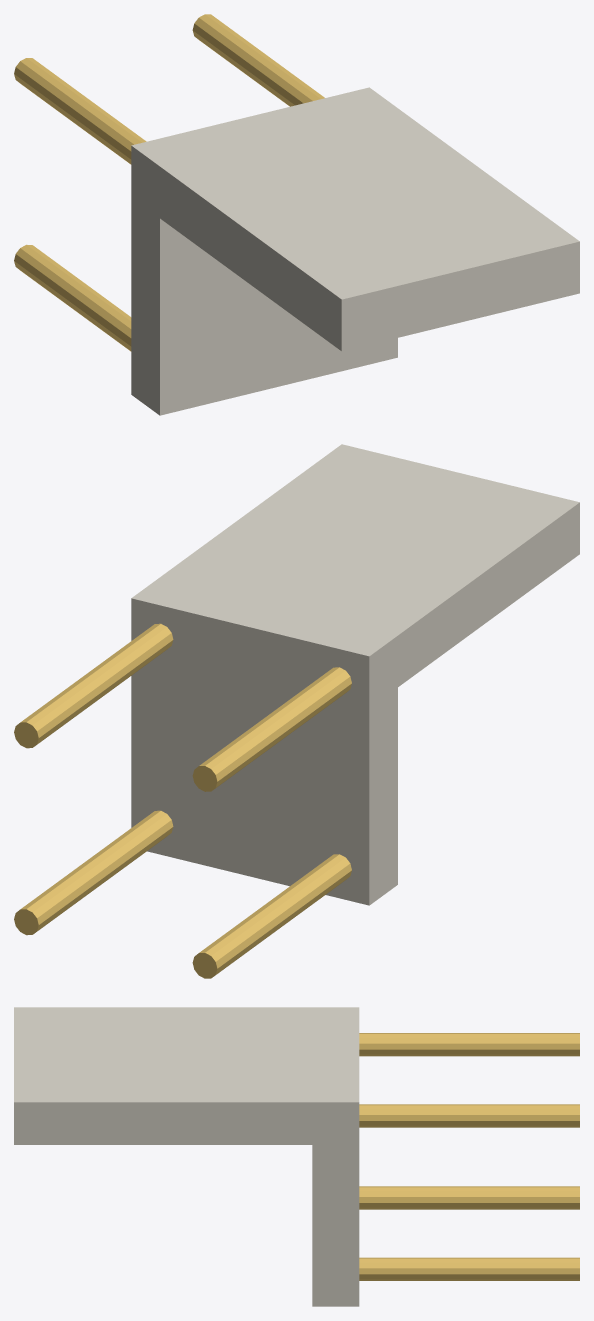
File: banquet_chair.glb
3 renders of one model, top to bottom at view 1: azimuth 30°, elevation 25°; view 2: azimuth 150°, elevation 25°; view 3: azimuth 270°, elevation 25°, orthographic. The views are drawn at different scales.
Parts seen in each view (by area): view 1: back, seat, leg (×3); view 2: seat, back, leg (×4); view 3: back, leg (×4), seat.
Part boxes in pixels (box(x1,y1,x2,y2)): back: box(156, 105, 579, 351); seat: box(131, 87, 397, 415); leg (×3): box(14, 14, 324, 351); seat: box(131, 580, 397, 905); back: box(156, 444, 579, 690); leg (×4): box(14, 623, 351, 978); back: box(14, 1007, 319, 1144); leg (×4): box(359, 1033, 579, 1280); seat: box(312, 1007, 359, 1306).
Size of the model in its own units: 0.48 by 0.48 by 1.2.
